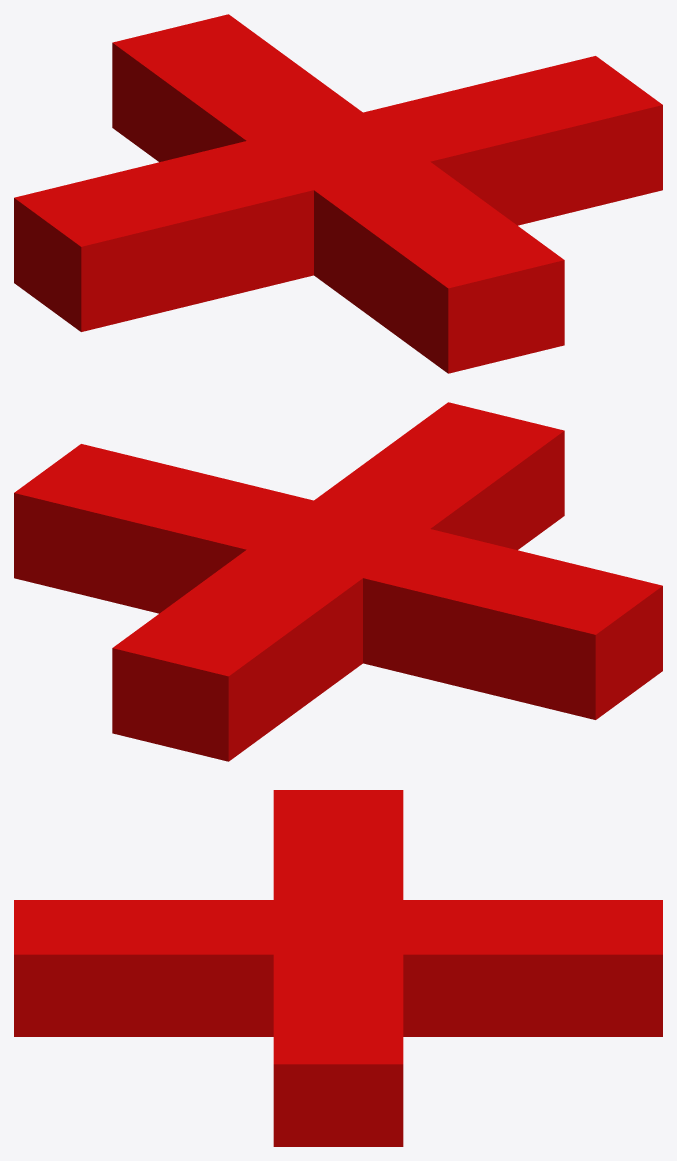
The model's file is 红十字.fbx.
3 renders of one model, top to bottom at view 1: azimuth 30°, elevation 25°; view 2: azimuth 150°, elevation 25°; view 3: azimuth 270°, elevation 25°, orthographic. The views are drawn at different scales.
Visible parts, largest first — view 1: pCube1, pCube2; view 2: pCube1, pCube2; view 3: pCube2, pCube1.
Boxes of the visible parts, box(x1,y1,x2,y2) form: pCube1: box(14, 56, 662, 331); pCube2: box(112, 14, 564, 373); pCube1: box(14, 444, 662, 719); pCube2: box(112, 402, 564, 761); pCube2: box(14, 900, 662, 1036); pCube1: box(273, 790, 403, 1146).
Size of the model in its own units: 5 by 0.7006 by 5.
